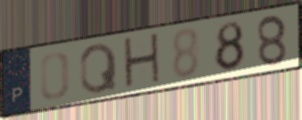0: (38, 50, 71, 101)
8: (211, 19, 248, 74), (256, 12, 289, 68), (169, 26, 201, 83)
H: (121, 30, 163, 93)
Q: (78, 41, 120, 97)
